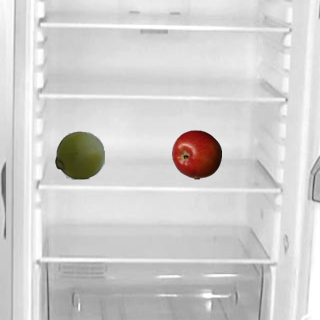Apple Braeburn: (171, 129, 221, 179)
Grape White 4: (54, 129, 104, 179)
